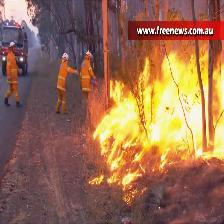fire: (93, 47, 224, 186)
